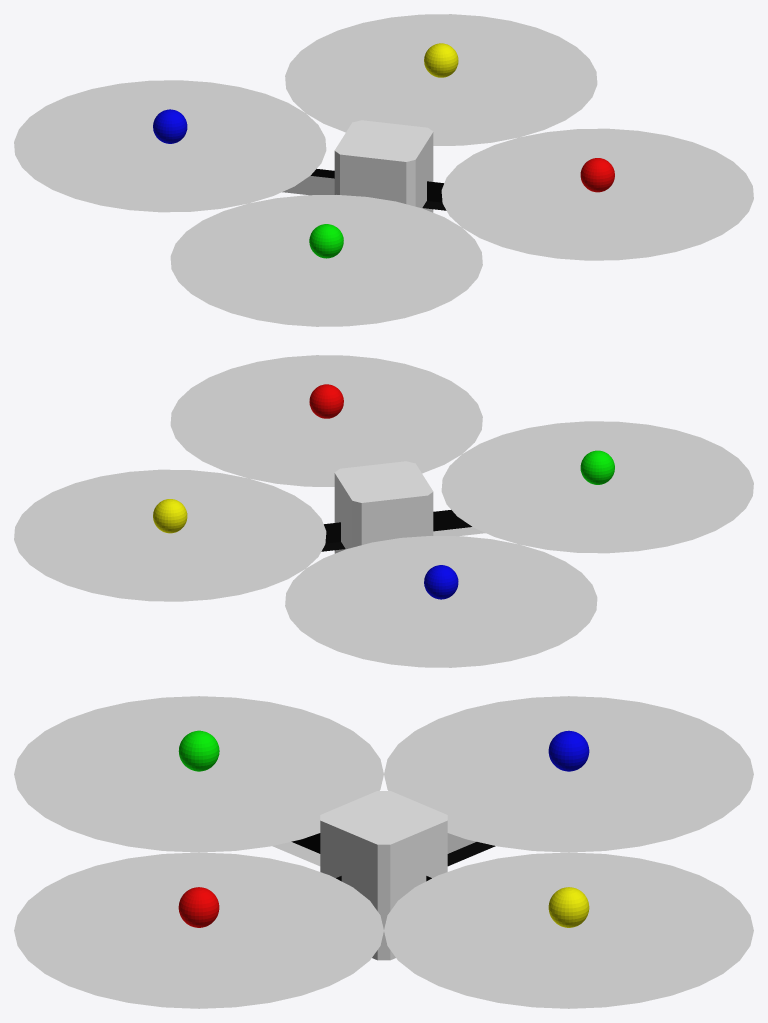
The model's file is quad.dae.
3 renders of one model, top to bottom at view 1: azimuth 30°, elevation 25°; view 2: azimuth 150°, elevation 25°; view 3: azimuth 270°, elevation 25°, orthographic. The views are drawn at different scales.
Visible parts, largest first — view 1: Quadcopter; view 2: Quadcopter; view 3: Quadcopter.
Part boxes in pixels (x1,y1,x2,y2): Quadcopter: [14, 14, 753, 326]; Quadcopter: [14, 355, 753, 667]; Quadcopter: [14, 696, 753, 1008].
Bounding box in the file's own units: 0.5799 × 0.5799 × 0.106.
